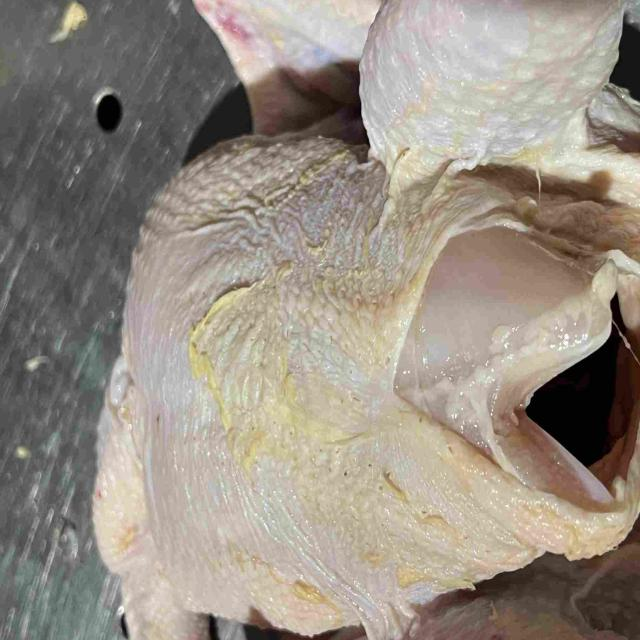breast: (117, 124, 607, 630)
leg: (361, 0, 619, 167)
neck: (96, 378, 207, 640)
wing: (197, 0, 375, 135)
